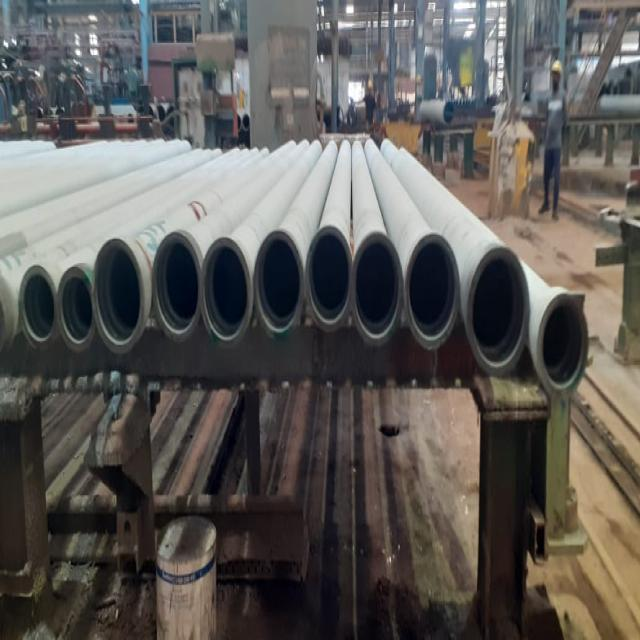pipe: (471, 247, 527, 371), (409, 232, 458, 346), (97, 241, 148, 350), (356, 233, 402, 348), (206, 239, 252, 348), (153, 236, 200, 342), (258, 237, 304, 342), (545, 298, 592, 400), (310, 226, 349, 334), (21, 274, 55, 348), (60, 277, 95, 347)
